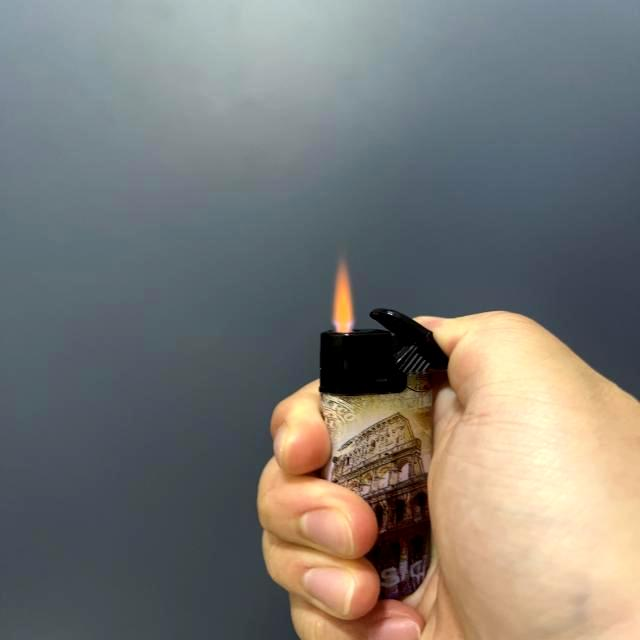fire: (331, 261, 357, 331)
